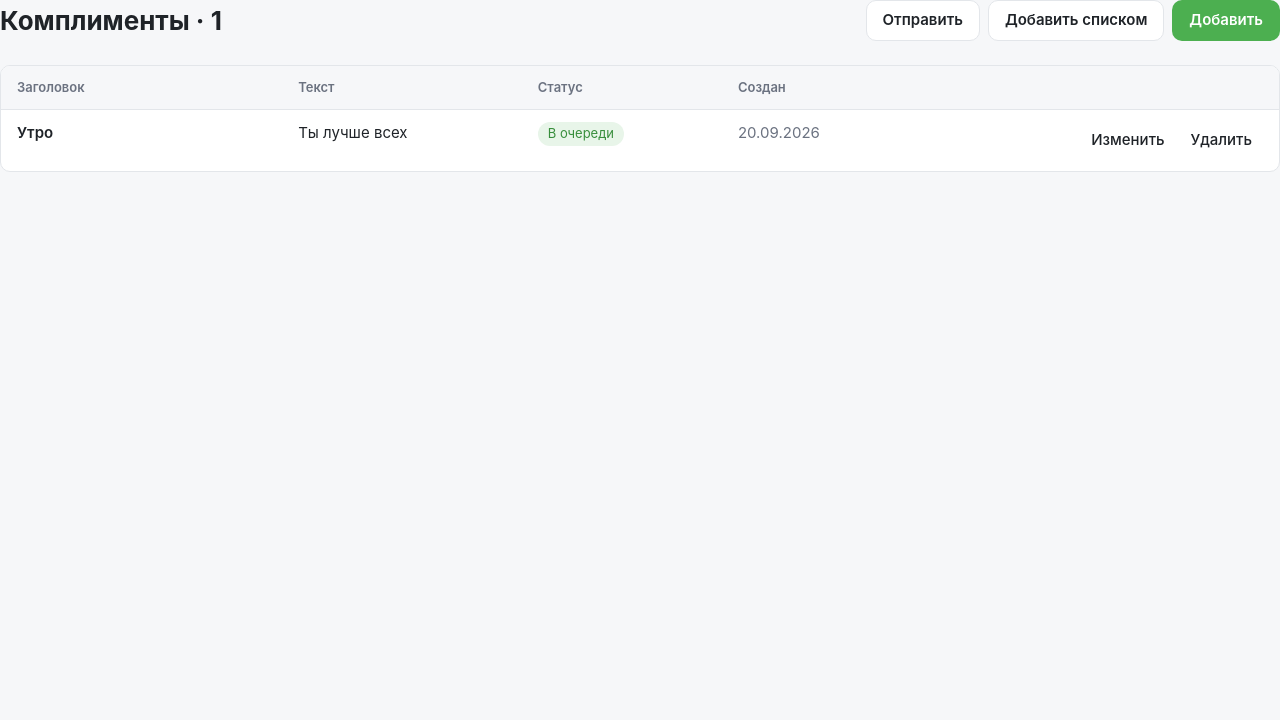
ComplimentsPage › удаляет после подтверждения
Click the button with aria-label "Удалить «Утро»" at {"x": 1221, "y": 140}, box x1=1180 y1=122 x2=1263 y2=158
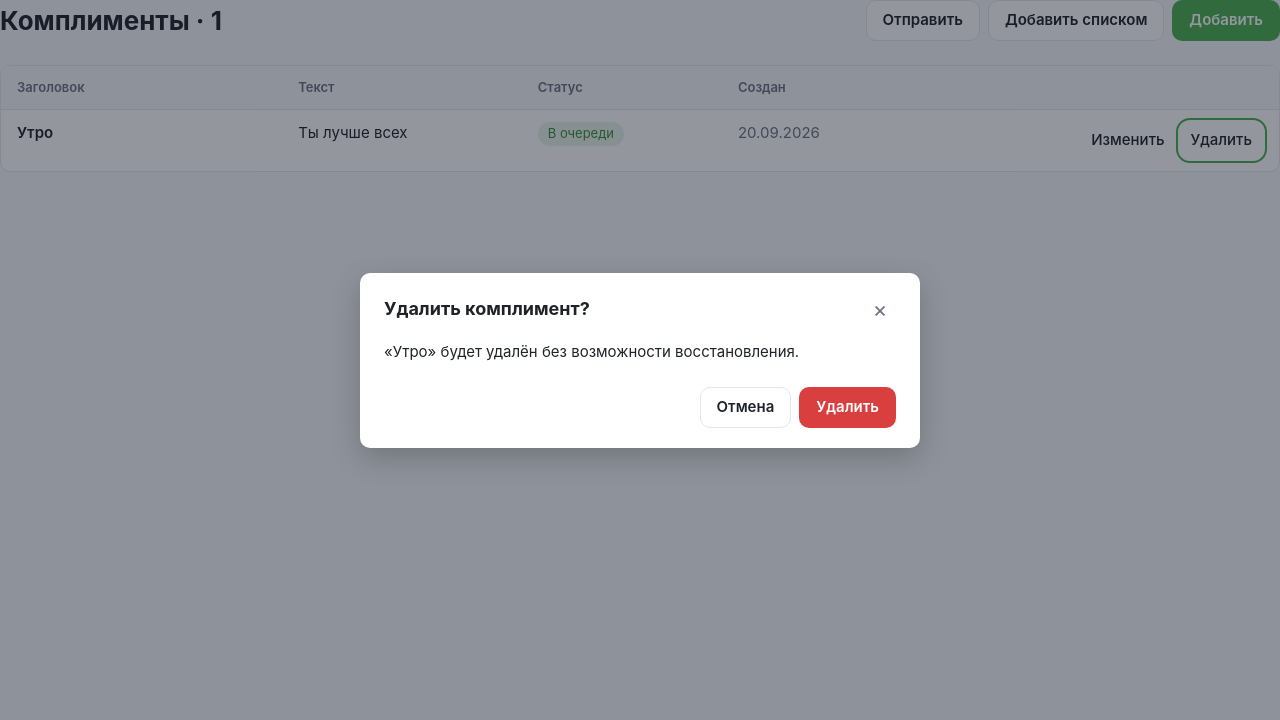
Expected: the text "«Утро» будет удалён без возможности восстановления." is shown, x1=384 y1=342 x2=799 y2=360
Click the button "Удалить" at {"x": 848, "y": 407}, box x1=799 y1=387 x2=896 y2=428
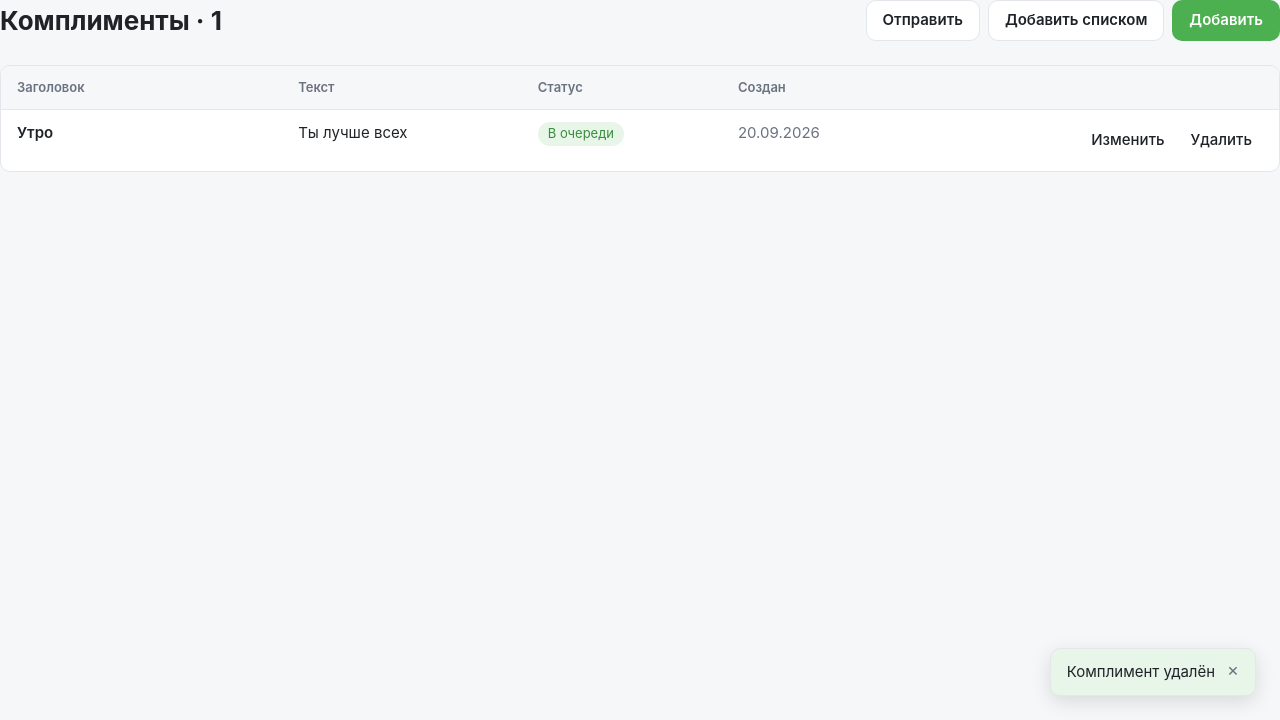
Expected: the text "Комплимент удалён" is shown, x1=1067 y1=660 x2=1215 y2=683
